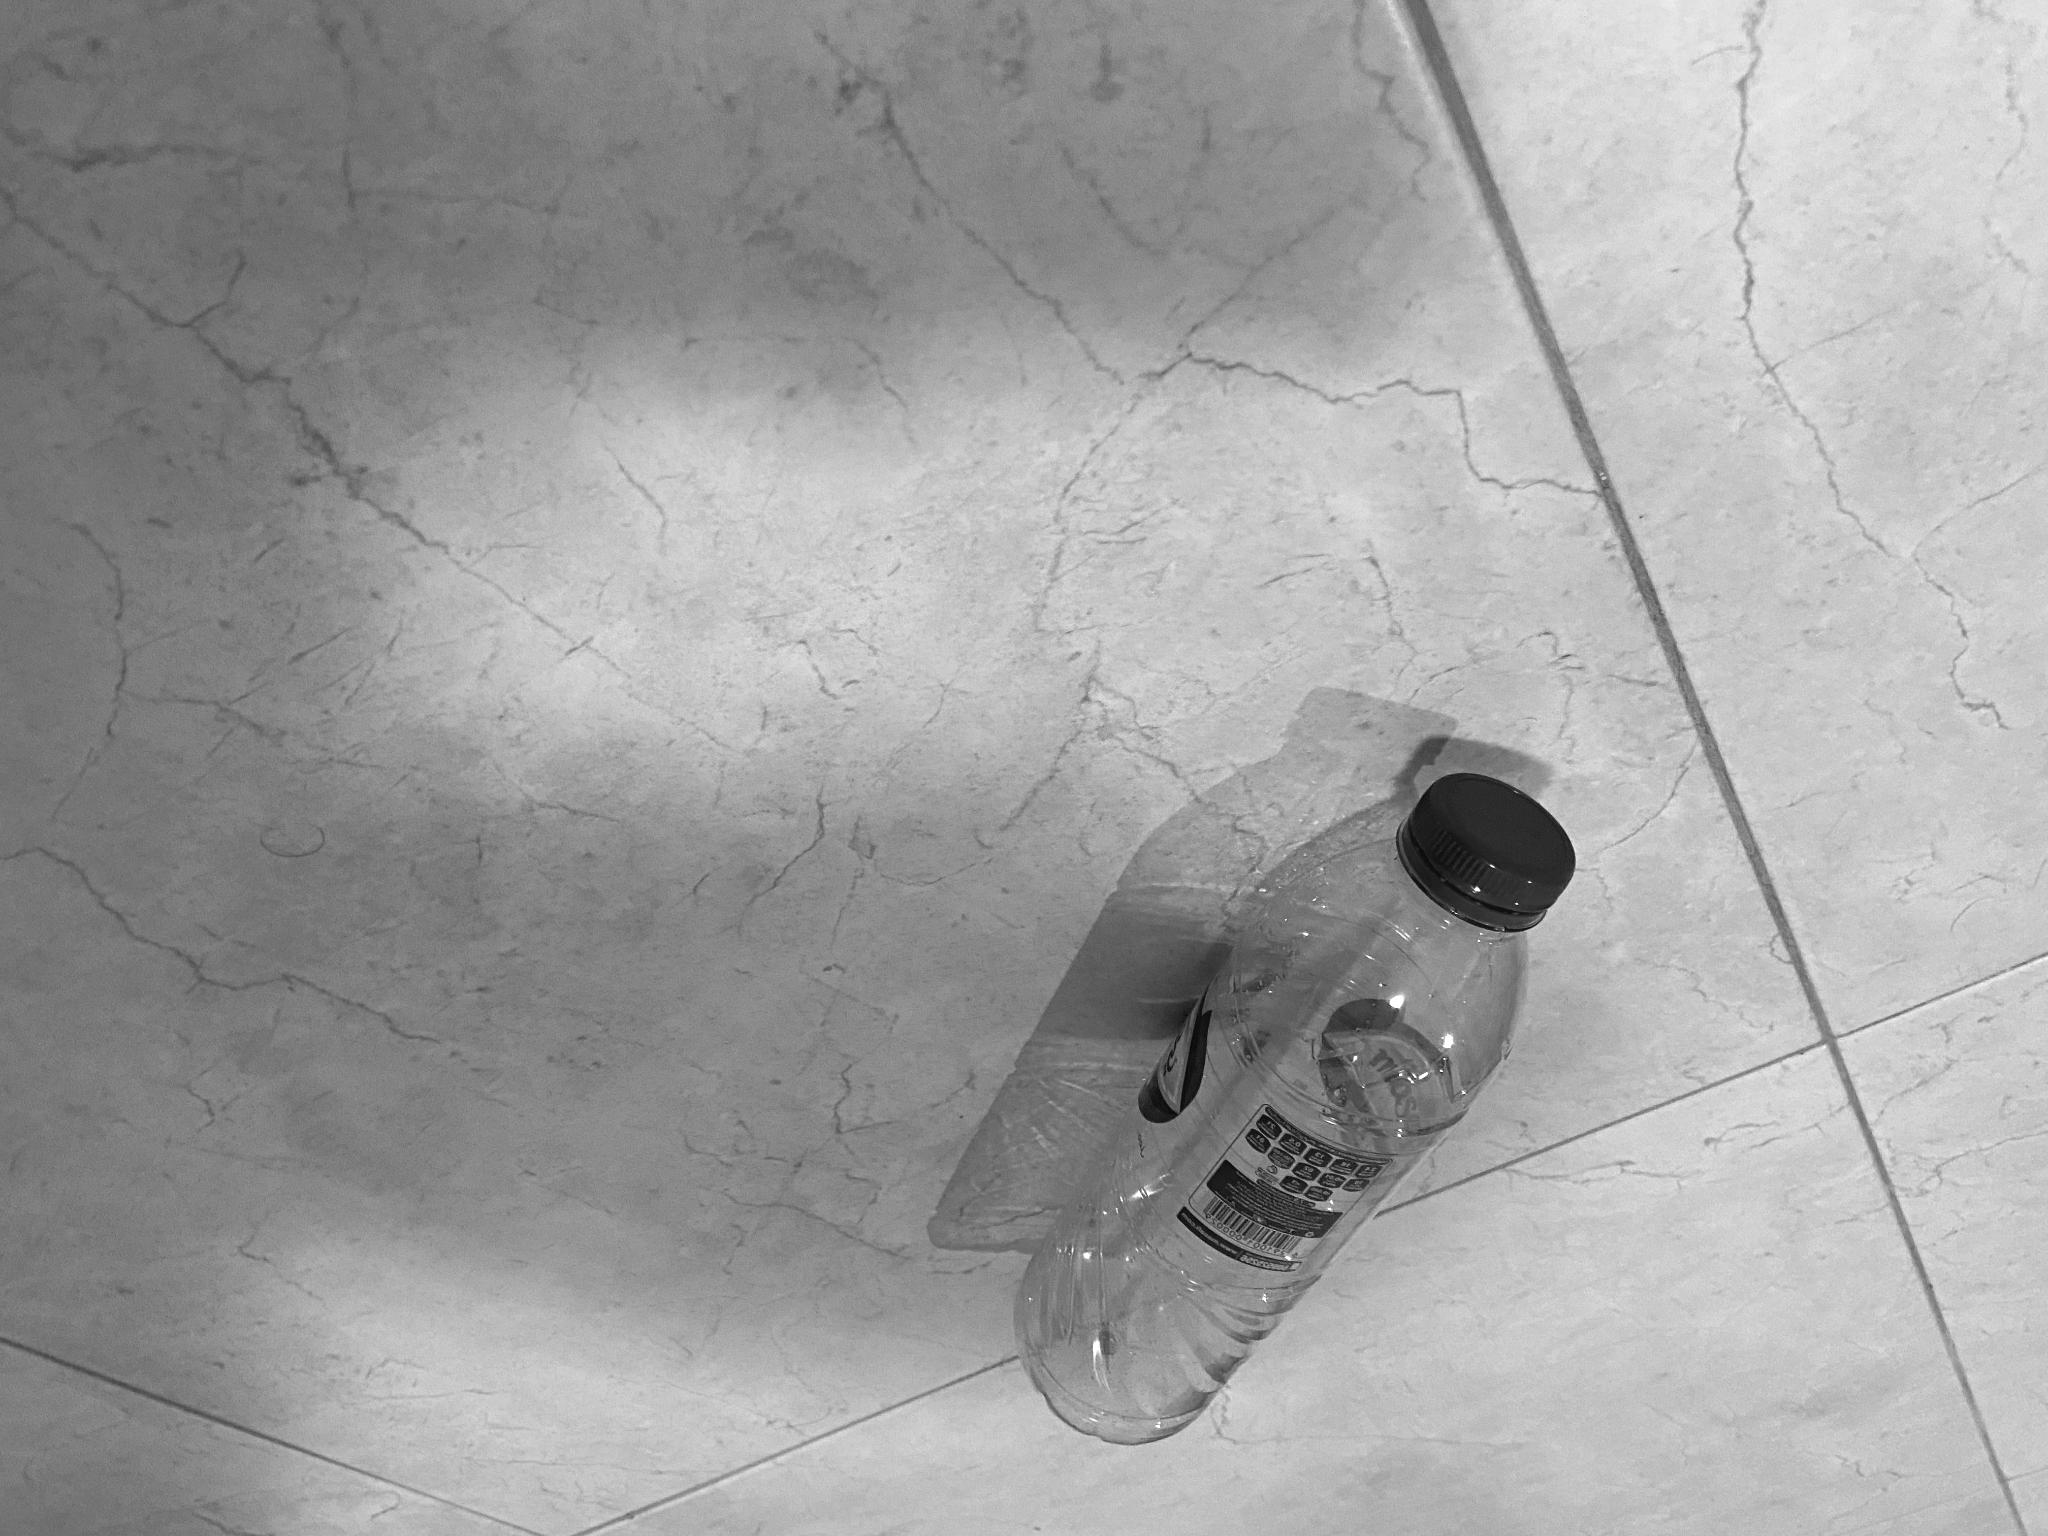bottle: (1006, 708, 1582, 1438)
